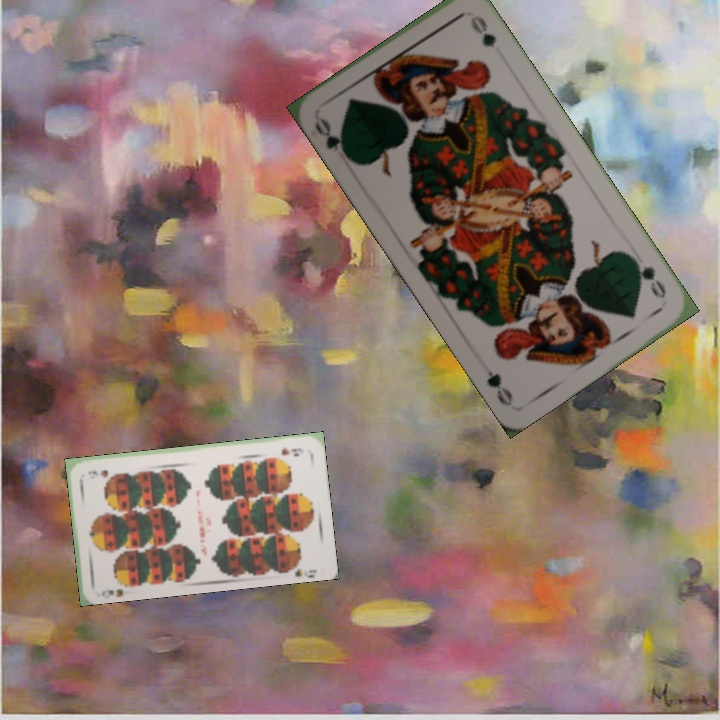GO: (310, 113, 355, 164), (627, 253, 669, 302)
S9: (98, 577, 134, 599), (277, 443, 306, 458)
